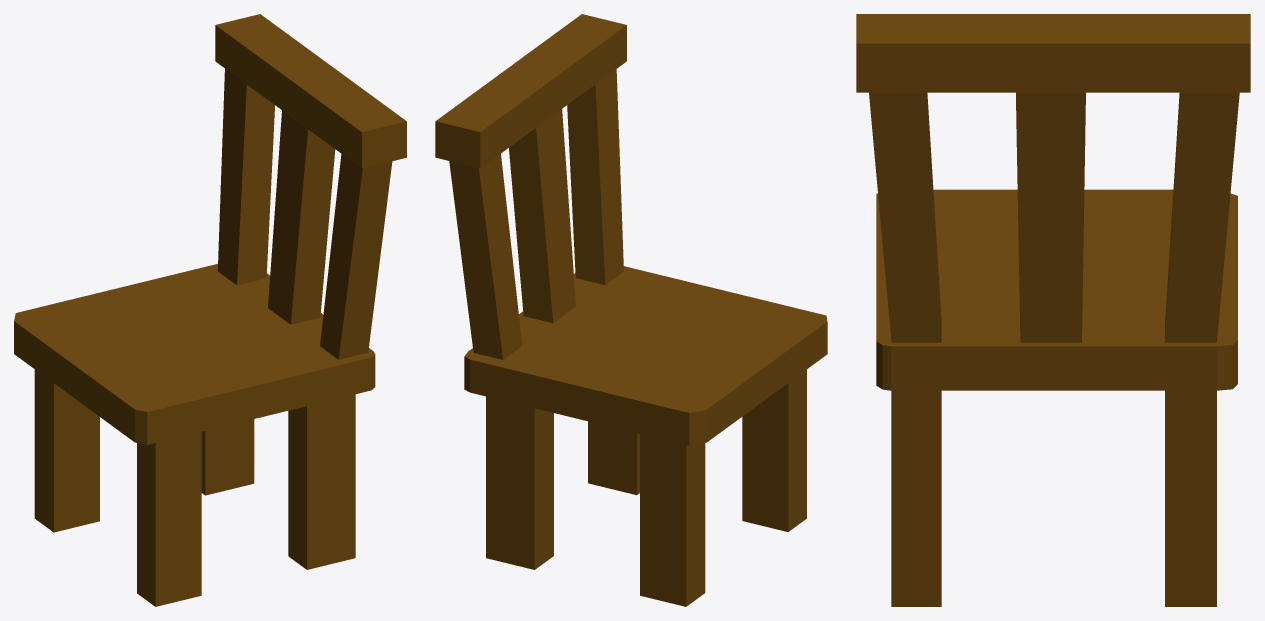
The model's file is chair_1.glb.
3 renders of one model, left to right at view 1: azimuth 30°, elevation 25°; view 2: azimuth 150°, elevation 25°; view 3: azimuth 270°, elevation 25°, orthographic. The views are drawn at different scales.
Visible parts, largest first — view 1: chair_1; view 2: chair_1; view 3: chair_1.
Boxes of the visible parts, left/top/right/bottom form: chair_1: left=14, top=14, right=406, bottom=606; chair_1: left=435, top=14, right=827, bottom=606; chair_1: left=856, top=14, right=1250, bottom=606.
Size of the model in its own units: 0.4378 by 0.7066 by 0.4295.
